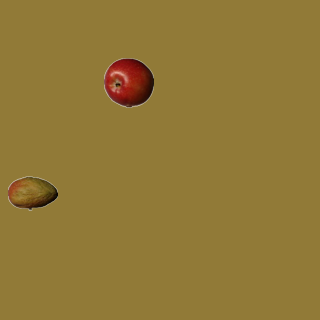Apple Braeburn: (103, 57, 153, 107)
Papaya: (7, 168, 57, 218)
